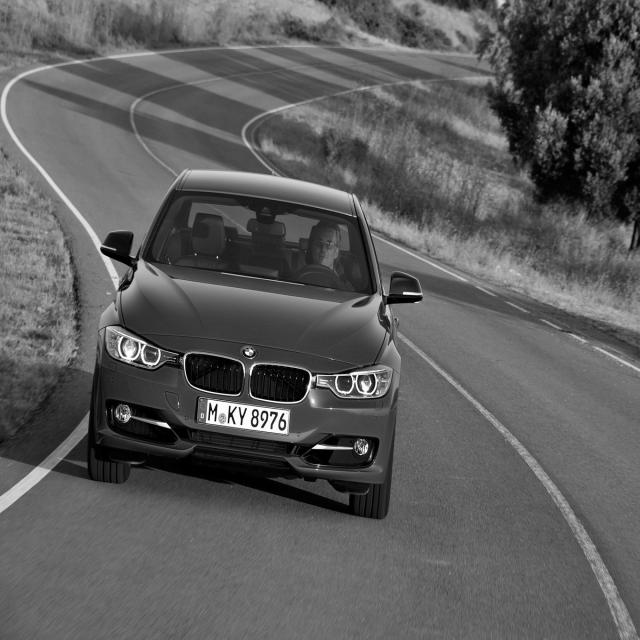car: (86, 168, 424, 520)
plat_license: (196, 396, 290, 436)
